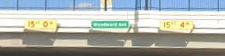1: (26, 19, 31, 29), (162, 21, 167, 29)
4: (178, 20, 185, 30)
5: (165, 19, 171, 29), (30, 20, 35, 29)
overheadsign: (158, 19, 194, 31), (24, 18, 56, 31)
